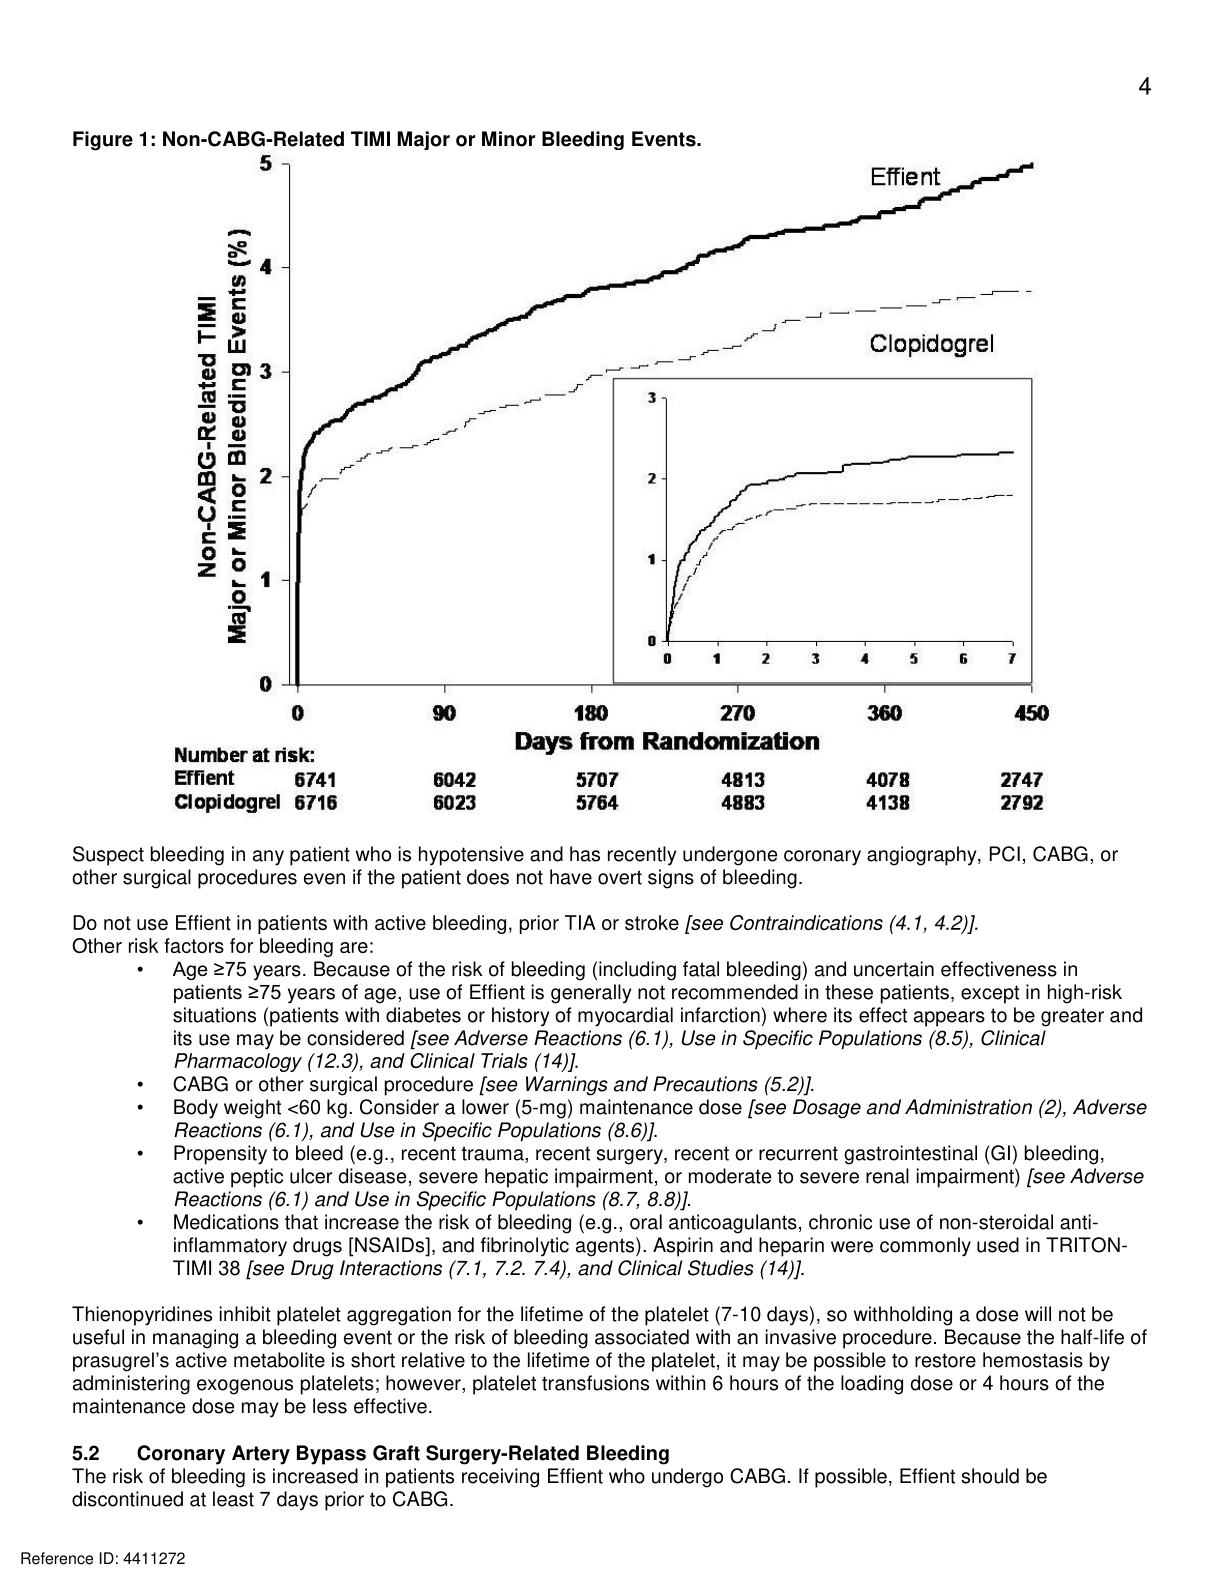nolines: (170, 765, 1047, 818)
